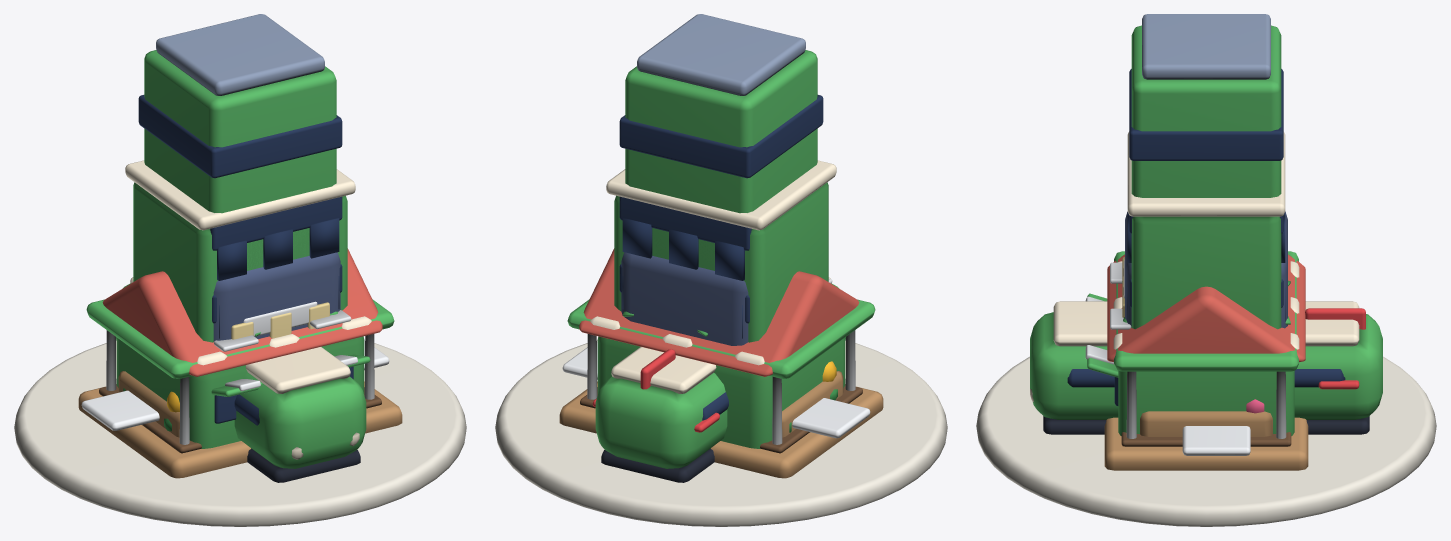
The model's file is props.glb.
The picture shows the model from 3 angles, left to right: view 1: azimuth 30°, elevation 25°; view 2: azimuth 150°, elevation 25°; view 3: azimuth 270°, elevation 25°; orthographic projection.
Parts seen in each view (by area): view 1: office, turntable_base, flats, house, train, tower, stall, flowers, plane, shop; view 2: office, turntable_base, flats, house, train, tower, stall, flowers, plane; view 3: turntable_base, office, train, flats, house, stall, flowers, plane, tower, shop.
Part boxes in pixels (x1,y1,x2,y2): office: (138,14,342,323); turntable_base: (14,340,466,526); flats: (125,160,355,351); house: (102,248,382,448); train: (116,277,366,482); tower: (213,252,340,341); stall: (86,299,394,444); flowers: (78,381,402,478); plane: (81,340,389,430); shop: (211,301,370,396); office: (619,14,823,323); turntable_base: (495,340,947,526); flats: (606,160,836,342); house: (579,248,859,448); train: (595,277,845,482); tower: (621,252,748,345); stall: (567,299,875,444); flowers: (559,361,883,478); plane: (562,342,870,438); turntable_base: (976,356,1436,526); office: (1129,14,1283,307); train: (1030,301,1382,434); flats: (1110,131,1285,329); house: (1107,254,1305,435); stall: (1113,251,1299,438); flowers: (1104,399,1308,470); plane: (1182,308,1365,455); tower: (1122,211,1287,328); shop: (1085,259,1124,377).
Size of the model in its own units: 6.78 by 6.97 by 6.78.
